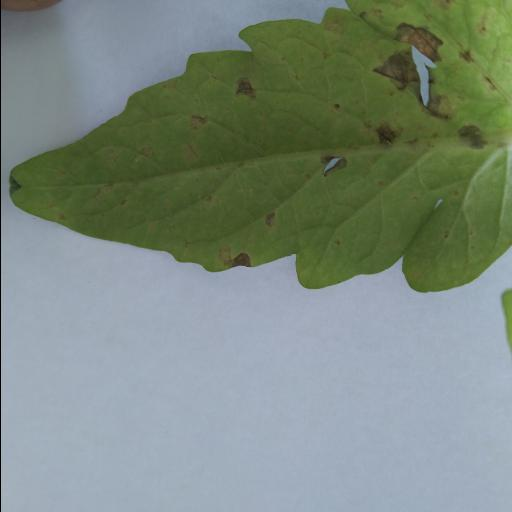Early Blight: (7, 0, 512, 295)
